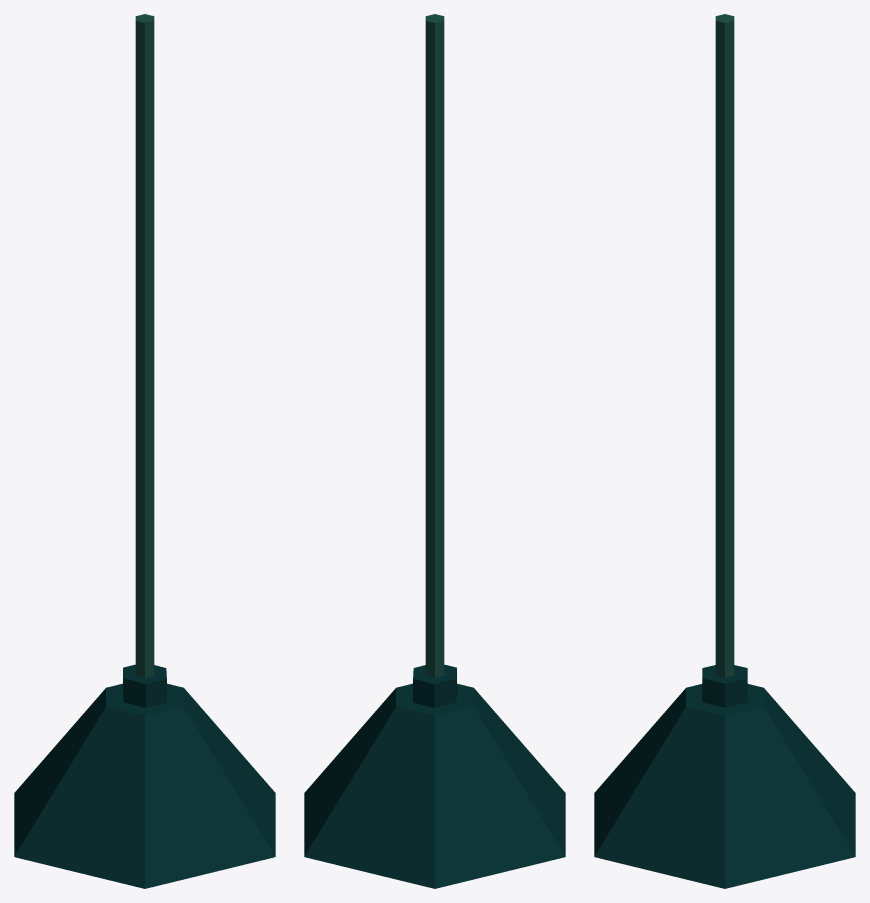
The model's file is CeilingLamp.fbx.
The picture shows the model from 3 angles, left to right: view 1: azimuth 30°, elevation 25°; view 2: azimuth 150°, elevation 25°; view 3: azimuth 270°, elevation 25°; orthographic projection.
Parts seen in each view (by area): view 1: lampScreen_geo, lamp_cord_geo; view 2: lampScreen_geo, lamp_cord_geo; view 3: lampScreen_geo, lamp_cord_geo.
Boxes of the visible parts, x1=… form: lampScreen_geo: x1=14, y1=664, x2=275, y2=888; lamp_cord_geo: x1=135, y1=14, x2=154, y2=677; lampScreen_geo: x1=304, y1=664, x2=565, y2=888; lamp_cord_geo: x1=425, y1=14, x2=444, y2=677; lampScreen_geo: x1=594, y1=665, x2=855, y2=888; lamp_cord_geo: x1=715, y1=14, x2=734, y2=677.
Bounding box in the file's own units: 244 × 718 × 211.
1 material, 1 textured.
